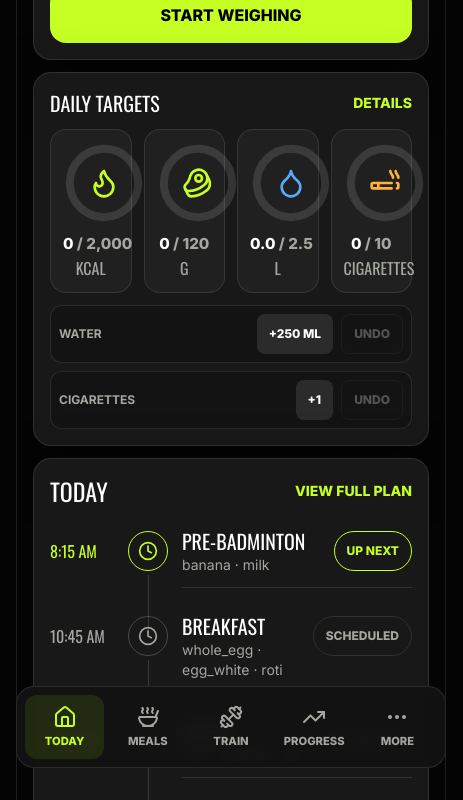
Scenario: TodayDashboard › increments and undoes cigarettes while preventing negative values
(page scrolled)
expect the 2nd button "Undo" is disabled: met, box top-left (341, 380), bottom-right (403, 420)
Click the button "+1" at (314, 400), box top-left (296, 380), bottom-right (333, 420)
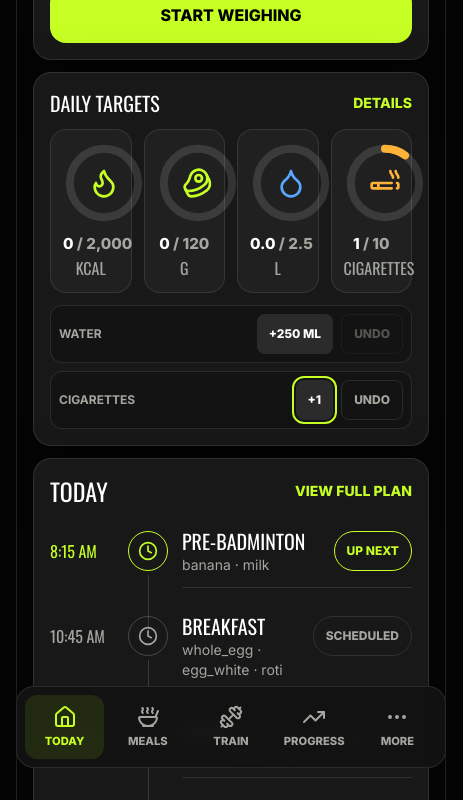
Click the 2nd button "Undo" at (372, 400), box top-left (341, 380), bottom-right (403, 420)
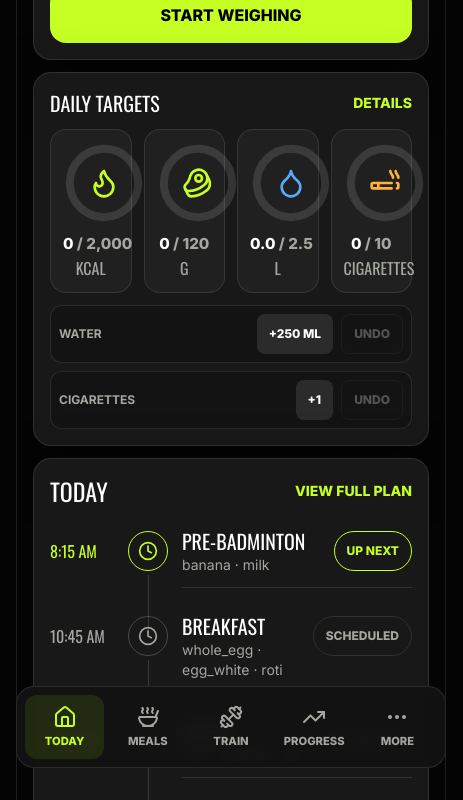
expect the 2nd button "Undo" is disabled: met, box top-left (341, 380), bottom-right (403, 420)
